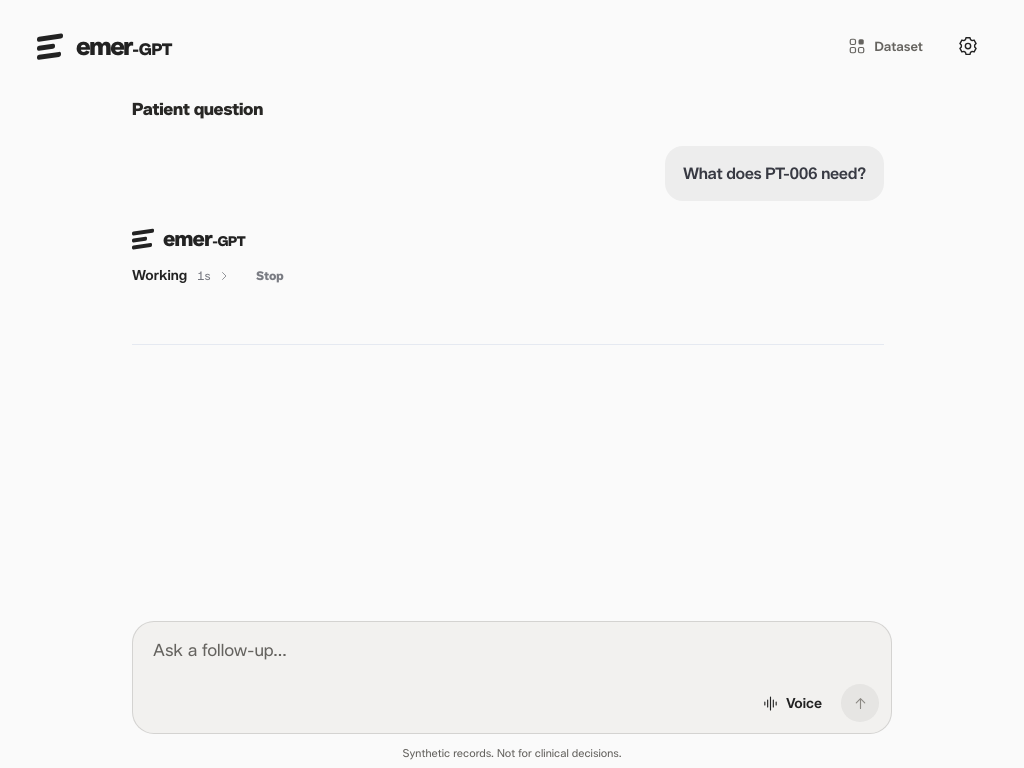
Simplified workspace with HTTP and Live-hook doubles › cancels an active answer and refreshes its saved status without generating again
The image size is (1024, 768).
Click the button "Stop": (270, 276) [248, 259, 292, 293]
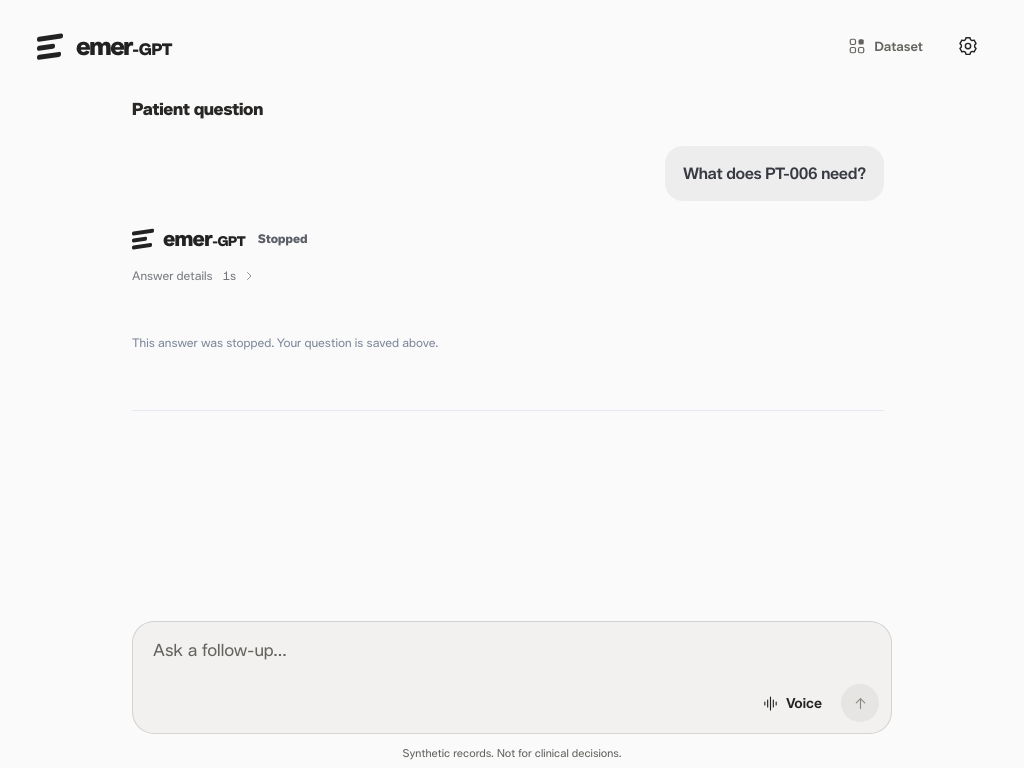
Expected: the text "This answer was stopped. Your question is saved above." is shown, [132, 335, 438, 351]
